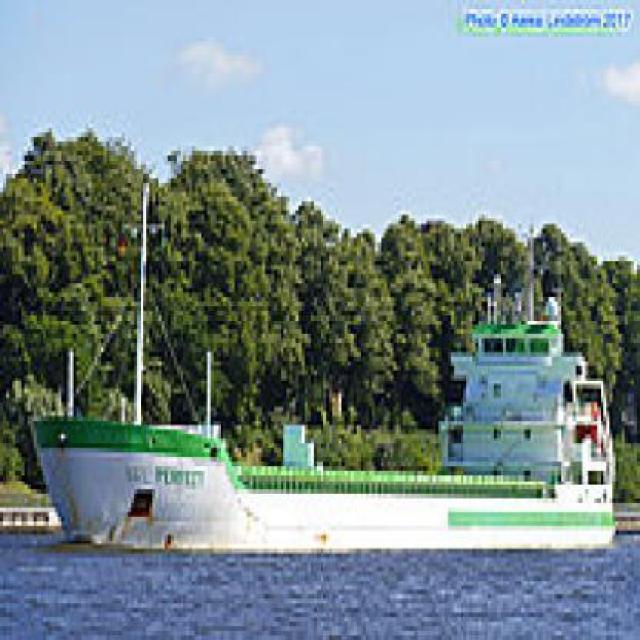container: (14, 385, 620, 559)
